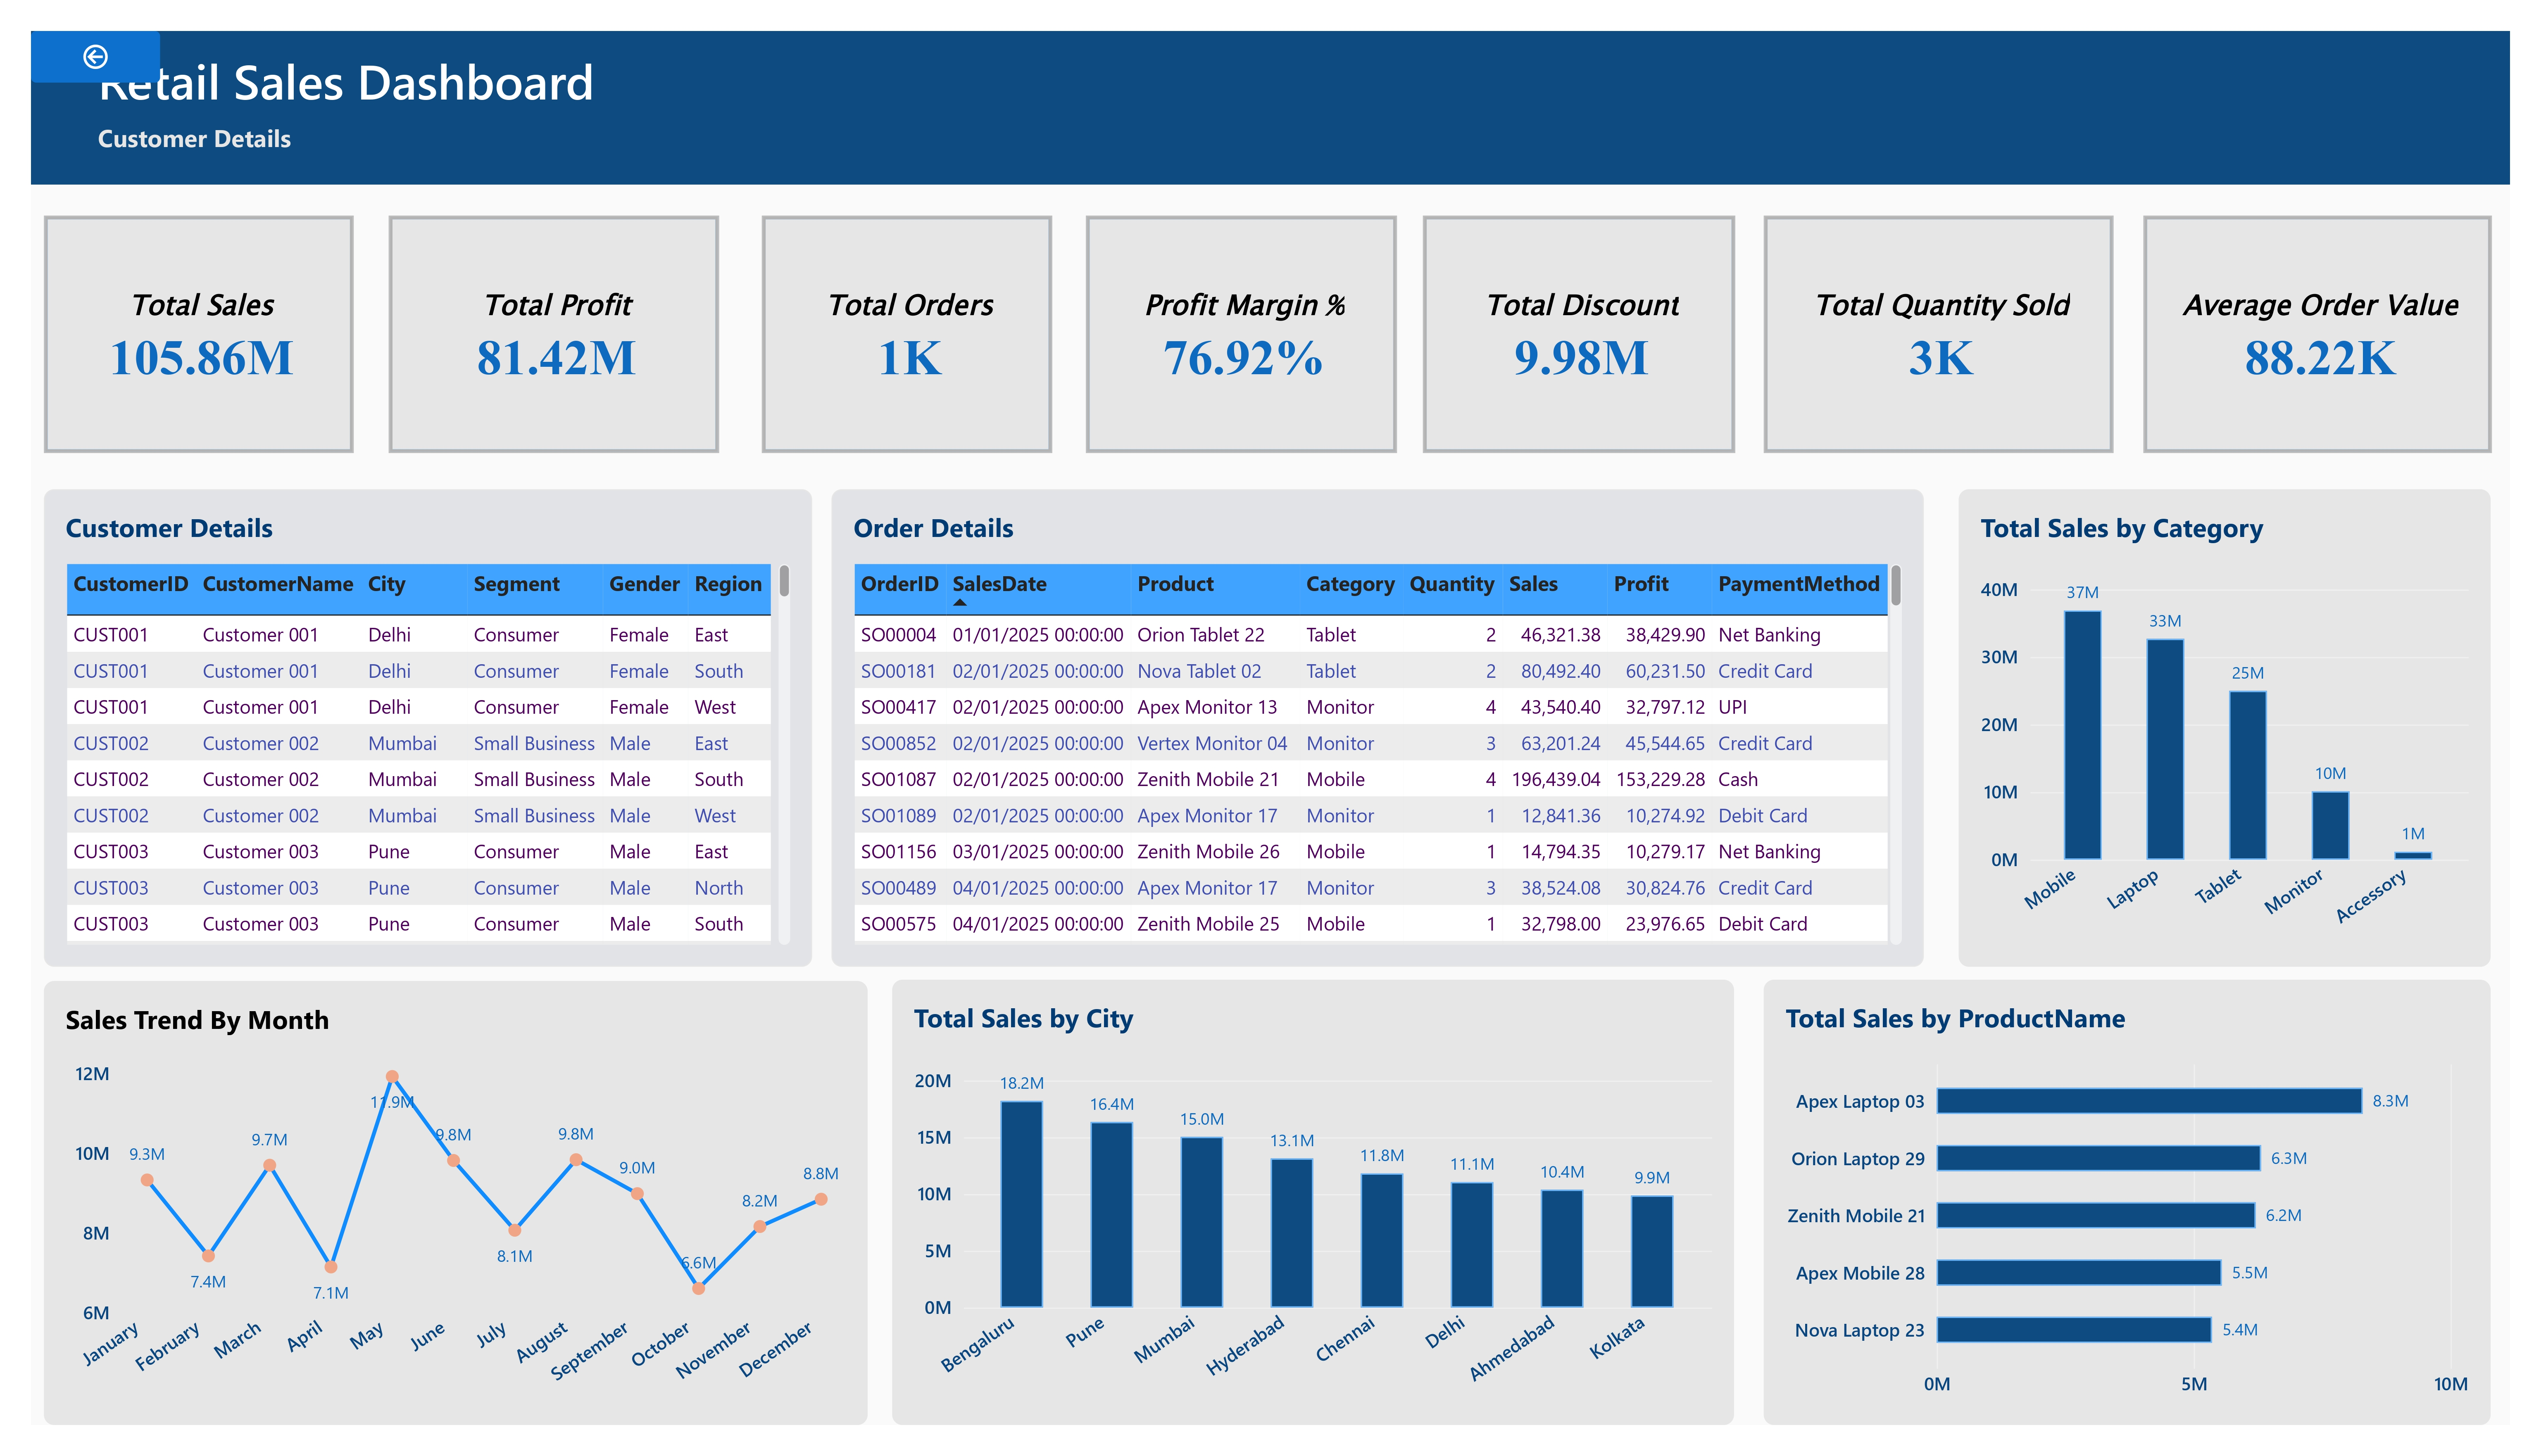

The dashboard page shown, as its layout file describes it:
{"tool":"powerbi","page":{"name":"Customer Details","canvas":[1920,1080],"ordinal":4},"visuals":[{"type":"shape","box":[0,0,1919.9,119.4],"z":0},{"type":"textbox","box":[10.2,13.1,439.1,56.9],"z":1000},{"type":"textbox","box":[10.2,70,439.1,32.1],"z":2000},{"type":"cardVisual","fields":{"Data":[" Measures .Total Sales"]},"box":[10.2,143,239.8,184.2],"z":3000},{"type":"cardVisual","fields":{"Data":[" Measures .Total Profit"]},"box":[277.2,143,255.7,184.2],"z":4000},{"type":"cardVisual","fields":{"Data":[" Measures .Profit Margin %"]},"box":[817,143,241.2,184.2],"z":5000},{"type":"cardVisual","fields":{"Data":[" Measures .Total Orders"]},"box":[566.1,143,225.3,184.2],"z":6000},{"type":"cardVisual","fields":{"Data":[" Measures .Total Discount"]},"box":[1078.2,143,241.4,184.2],"z":7000},{"type":"cardVisual","fields":{"Data":[" Measures .Total Quantity Sold"]},"box":[1342.2,143,270.3,184.2],"z":8000},{"type":"cardVisual","fields":{"Data":[" Measures .Average Order Value"]},"box":[1635.5,143,270.3,184.2],"z":9000},{"type":"tableEx","title":"Customer Details","fields":{"Values":["Customers.CustomerID","Customers.CustomerName","Customers.City","Customers.Segment","Customers.Gender","Employees.Region"]},"box":[10.2,354.5,595.3,370.6],"z":10000},{"type":"tableEx","title":"Order Details","fields":{"Values":["Sales.OrderID","Sales.SalesDate","Products.ProductName","Products.Category","Sum(Sales.Quantity)"," Measures .Total Sales"," Measures .Total Profit","Sales.PaymentMethod"]},"box":[620.1,354.5,846.2,370.6],"z":11000},{"type":"lineChart","title":"Sales Trend By Month","fields":{"Category":["Calendar.MonthName"],"Y":[" Measures .Total Sales"]},"box":[10,736,638,344],"z":12000},{"type":"clusteredColumnChart","fields":{"Category":["Products.Category"],"Y":[" Measures .Total Sales"]},"box":[1492.5,354.5,412.9,370.6],"z":12001},{"type":"clusteredColumnChart","fields":{"Category":["Sales.City"],"Y":[" Measures .Total Sales"]},"box":[666.7,735.3,652.2,344.3],"z":12002},{"type":"clusteredBarChart","fields":{"Category":["Products.ProductName"],"Y":[" Measures .Total Sales"]},"box":[1342.2,735.3,563.2,344.3],"z":12003},{"type":"actionButton","box":[0,0,100,40],"z":12004}]}

Visuals, with their boxes on the page's 1920x1080 design canvas (x1, y1, x2, y2). These are canvas units, not pixel positions in the 2541x1456 screenshot, which may show the page scaled, cropped or inside an application window:
shape: {"left": 0, "top": 0, "right": 1920, "bottom": 119}
textbox: {"left": 10, "top": 13, "right": 449, "bottom": 70}
textbox: {"left": 10, "top": 70, "right": 449, "bottom": 102}
cardVisual -  Measures .Total Sales: {"left": 10, "top": 143, "right": 250, "bottom": 327}
cardVisual -  Measures .Total Profit: {"left": 277, "top": 143, "right": 533, "bottom": 327}
cardVisual -  Measures .Profit Margin %: {"left": 817, "top": 143, "right": 1058, "bottom": 327}
cardVisual -  Measures .Total Orders: {"left": 566, "top": 143, "right": 791, "bottom": 327}
cardVisual -  Measures .Total Discount: {"left": 1078, "top": 143, "right": 1320, "bottom": 327}
cardVisual -  Measures .Total Quantity Sold: {"left": 1342, "top": 143, "right": 1612, "bottom": 327}
cardVisual -  Measures .Average Order Value: {"left": 1636, "top": 143, "right": 1906, "bottom": 327}
"Customer Details" tableEx: {"left": 10, "top": 354, "right": 606, "bottom": 725}
"Order Details" tableEx: {"left": 620, "top": 354, "right": 1466, "bottom": 725}
"Sales Trend By Month" lineChart: {"left": 10, "top": 736, "right": 648, "bottom": 1080}
clusteredColumnChart - Products.Category x  Measures .Total Sales: {"left": 1492, "top": 354, "right": 1905, "bottom": 725}
clusteredColumnChart - Sales.City x  Measures .Total Sales: {"left": 667, "top": 735, "right": 1319, "bottom": 1080}
clusteredBarChart - Products.ProductName x  Measures .Total Sales: {"left": 1342, "top": 735, "right": 1905, "bottom": 1080}
actionButton: {"left": 0, "top": 0, "right": 100, "bottom": 40}
